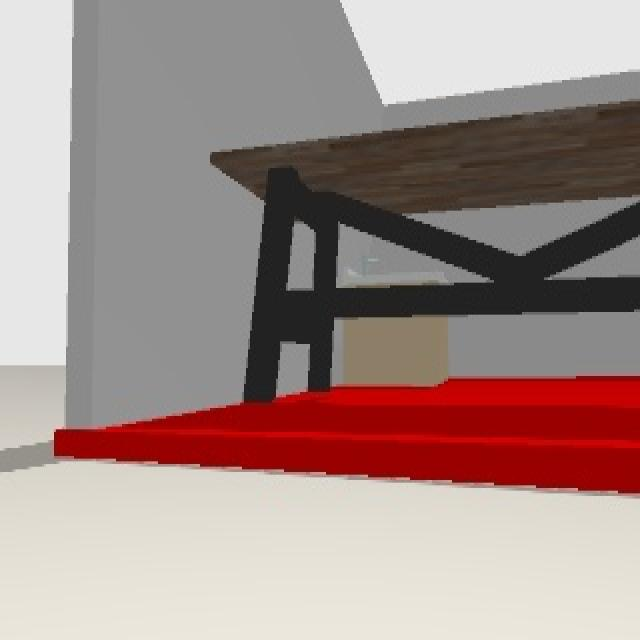dining: (212, 99, 640, 401)
